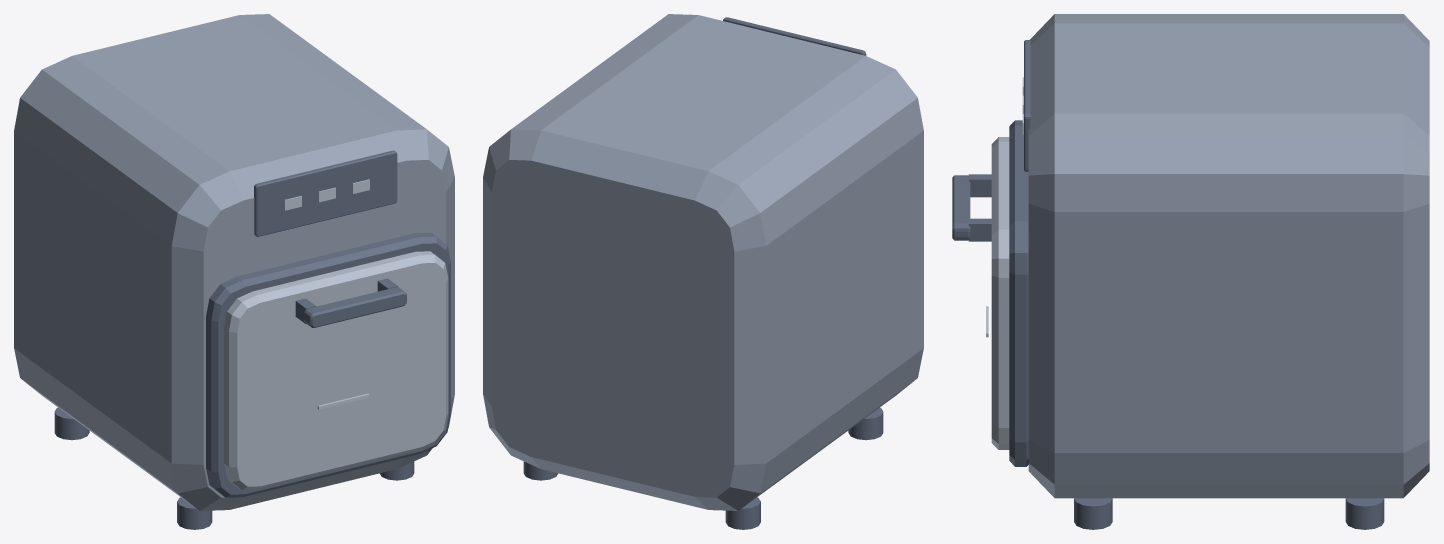
Rendered from air-fryer.glb.
3 views of the same model, side by side, from view 1: azimuth 30°, elevation 25°; view 2: azimuth 150°, elevation 25°; view 3: azimuth 270°, elevation 25° (orthographic). The views are drawn at different scales.
Visible parts, largest first — view 1: body, soft, dark, light; view 2: body, dark; view 3: body, dark, soft.
Boxes of the visible parts, left/top/right/bottom form: body: left=14, top=14, right=454, bottom=510; soft: left=224, top=251, right=448, bottom=490; dark: left=54, top=150, right=450, bottom=529; light: left=284, top=179, right=369, bottom=409; body: left=483, top=14, right=923, bottom=510; dark: left=523, top=17, right=883, bottom=529; body: left=1028, top=14, right=1429, bottom=498; dark: left=952, top=40, right=1384, bottom=529; soft: left=991, top=137, right=1009, bottom=449.
Bounding box in the file's own units: 0.28 × 0.34 × 0.369.
